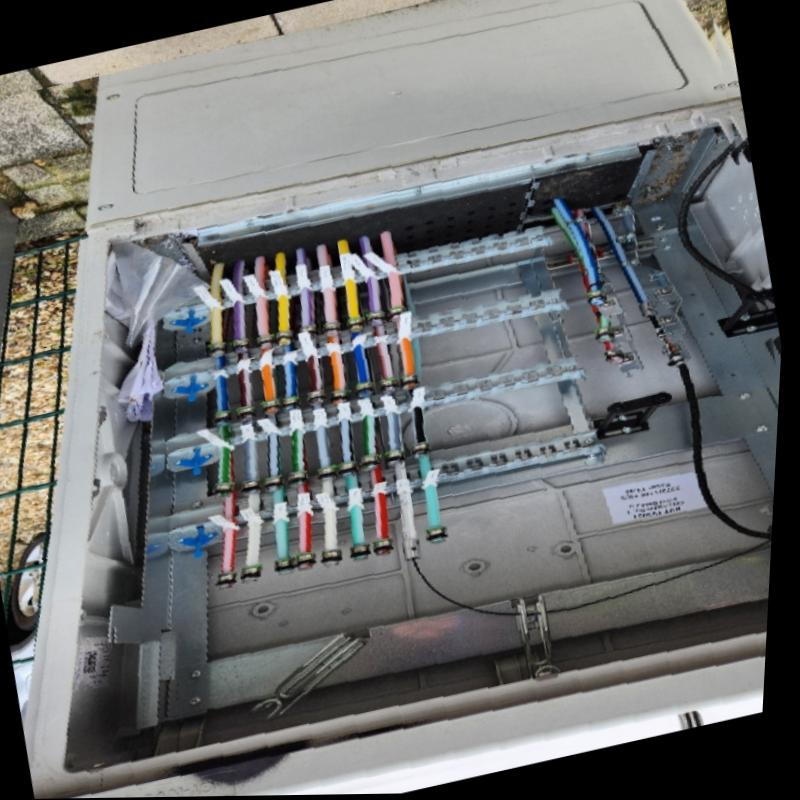NT-Gehause: (31, 0, 784, 799)
